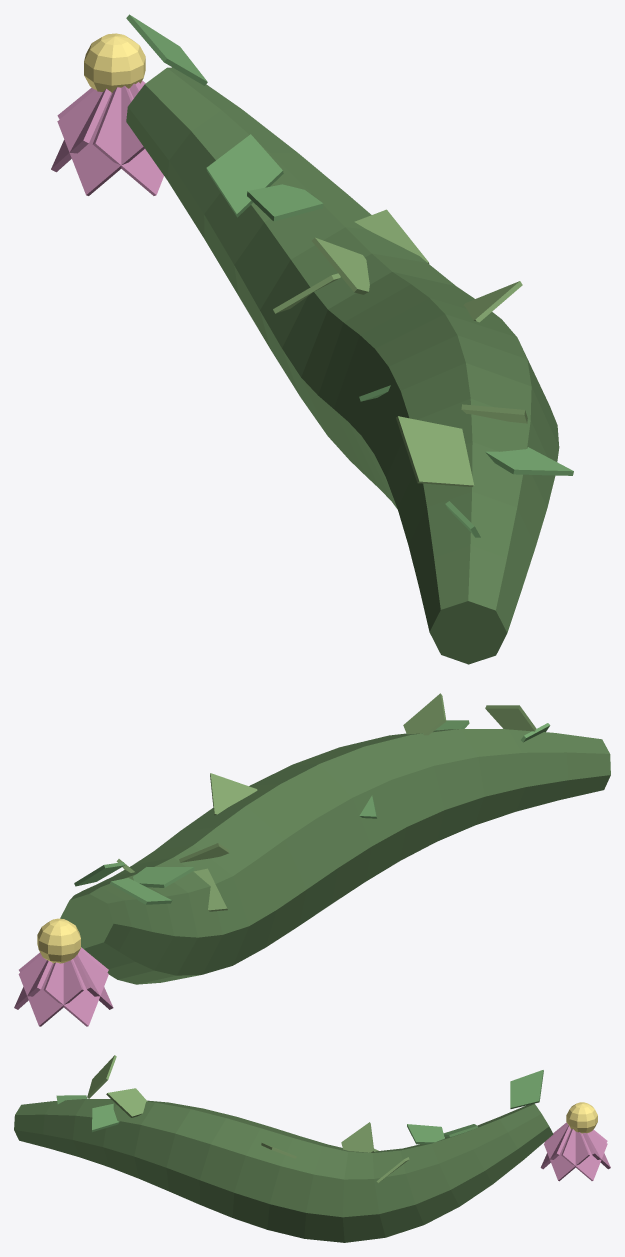
The model's file is IvySerpent.fbx.
The picture shows the model from 3 angles, top to bottom: view 1: azimuth 30°, elevation 25°; view 2: azimuth 150°, elevation 25°; view 3: azimuth 270°, elevation 25°; orthographic projection. The views are drawn at different scales.
Parts seen in each view (by area): view 1: Enemy_IvySerpent; view 2: Enemy_IvySerpent; view 3: Enemy_IvySerpent.
Boxes of the visible parts, <box> form: Enemy_IvySerpent: <box>51,14,573,664</box>; Enemy_IvySerpent: <box>14,693,610,1026</box>; Enemy_IvySerpent: <box>14,1055,610,1242</box>.
Bounding box in the file's own units: 0.6438 × 0.5277 × 1.84.
